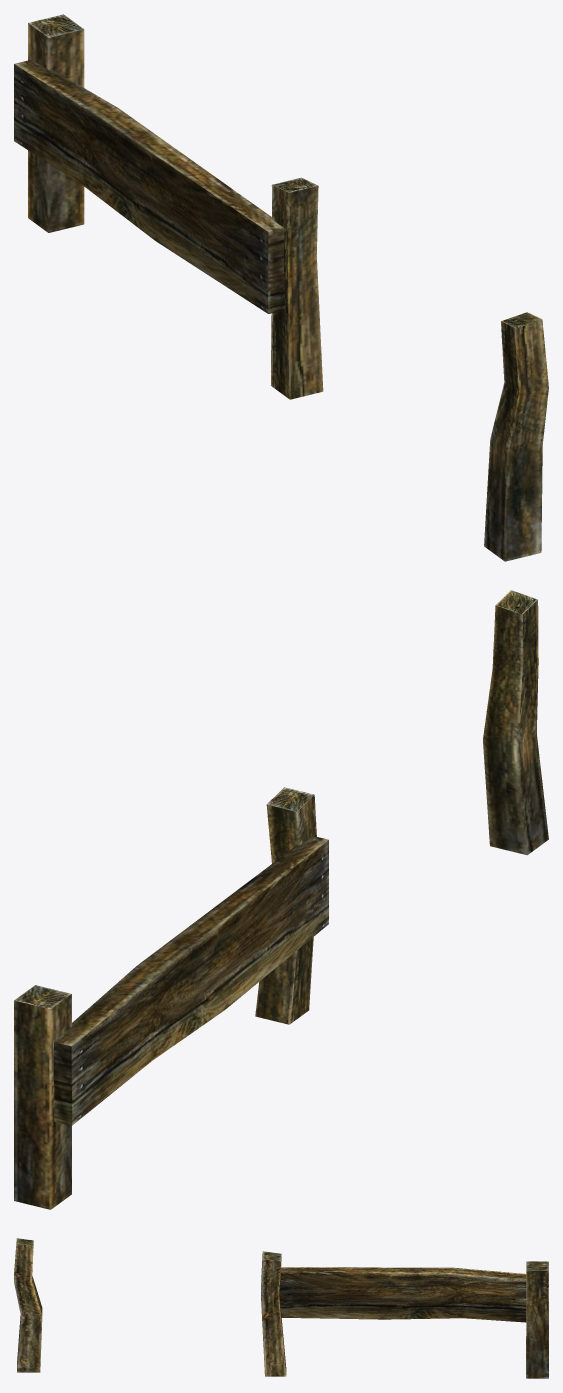
Rendered from most_10.glb.
The picture shows the model from 3 angles, top to bottom: view 1: azimuth 30°, elevation 25°; view 2: azimuth 150°, elevation 25°; view 3: azimuth 270°, elevation 25°; orthographic projection. The views are drawn at different scales.
Visible parts, largest first — view 1: most_10; view 2: most_10; view 3: most_10.
Part boxes in pixels (left/top/right/bottom): most_10: left=14, top=14, right=548, bottom=561; most_10: left=14, top=590, right=548, bottom=1209; most_10: left=14, top=1238, right=548, bottom=1378.
Bounding box in the file's own units: 0.5125 × 1.99 × 7.18.
Materials: 2 (2 with a texture image).
